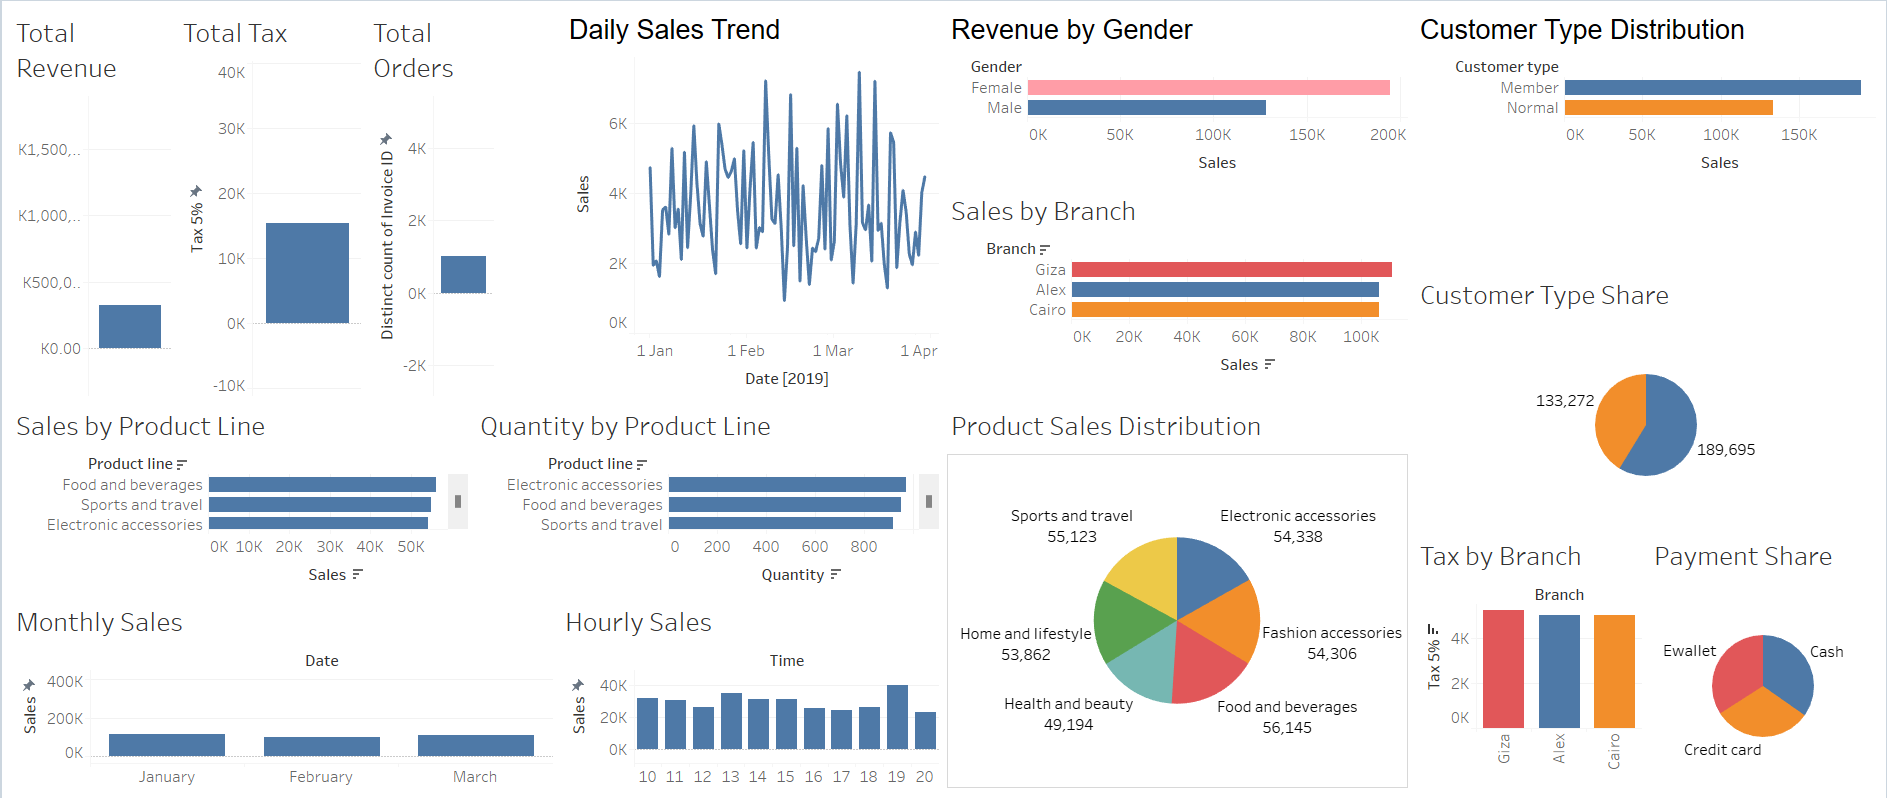

What the dashboard file says about the page in this screenshot:
{"tool":"tableau","page":{"name":"Supermarket Sales Dashboard","canvas":[1000,1000],"units":"permille","ordinal":5},"visuals":[{"type":"worksheet","title":"Total Revenue","mark":"Automatic","rows":["Sales"],"box":[4.2,10,88.2,490]},{"type":"worksheet","title":"Total Tax","mark":"Automatic","rows":["Tax 5%"],"box":[92.5,10,101,490]},{"type":"worksheet","title":"Total Orders","mark":"Automatic","rows":["Invoice_ID"],"box":[193.5,10,103.5,490]},{"type":"worksheet","title":"Daily Sales Trend","mark":"Automatic","rows":["Sales"],"cols":["date"],"box":[297,10,202.7,490]},{"type":"worksheet","title":"Sales by Gender","mark":"Automatic","rows":["Gender"],"cols":["Sales"],"box":[499.7,10,248.2,222.2]},{"type":"worksheet","title":"Sales by Customer Type","mark":"Automatic","rows":["Customer type"],"cols":["Sales"],"box":[747.8,10,247.9,326.7]},{"type":"worksheet","title":"Sales by Branch","mark":"Automatic","rows":["Branch"],"cols":["Sales"],"box":[499.7,232.2,248.2,268.4]},{"type":"worksheet","title":"Customer Type Share","mark":"Pie","box":[747.8,336.7,247.9,326.7]},{"type":"worksheet","title":"Sales by Product Line","mark":"Automatic","rows":["Product line"],"cols":["Sales"],"box":[4.2,500,245.7,245]},{"type":"worksheet","title":"Quantity by Product Line","mark":"Automatic","rows":["Product line"],"cols":["Quantity"],"box":[250,500,249.7,245]},{"type":"worksheet","title":"Product Sales Distribution","mark":"Pie","box":[499.7,500.6,248.2,489.4]},{"type":"worksheet","title":"Tax by Branch","mark":"Automatic","rows":["Tax 5%"],"cols":["Branch"],"box":[747.8,663.3,123.9,326.7]},{"type":"worksheet","title":"Payment Share","mark":"Pie","box":[871.8,663.3,124,326.7]},{"type":"worksheet","title":"Monthly Sales","mark":"Bar","rows":["Sales"],"cols":["date"],"box":[4.2,745,290.8,245]},{"type":"worksheet","title":"Hourly Sales","mark":"Bar","rows":["Sales"],"cols":["time"],"box":[295,745,204.7,245]}]}

Visuals, with their boxes on the dashboard's canvas, which has no fixed pixel size, in thousandths of its width and height (x1, y1, x2, y2). These are canvas units, not pixel positions in the 1887x798 screenshot, which may show the page scaled, cropped or inside an application window:
"Total Revenue" worksheet: <bbox>4, 10, 92, 500</bbox>
"Total Tax" worksheet: <bbox>92, 10, 194, 500</bbox>
"Total Orders" worksheet: <bbox>194, 10, 297, 500</bbox>
"Daily Sales Trend" worksheet: <bbox>297, 10, 500, 500</bbox>
"Sales by Gender" worksheet: <bbox>500, 10, 748, 232</bbox>
"Sales by Customer Type" worksheet: <bbox>748, 10, 996, 337</bbox>
"Sales by Branch" worksheet: <bbox>500, 232, 748, 501</bbox>
"Customer Type Share" worksheet (Pie marks): <bbox>748, 337, 996, 663</bbox>
"Sales by Product Line" worksheet: <bbox>4, 500, 250, 745</bbox>
"Quantity by Product Line" worksheet: <bbox>250, 500, 500, 745</bbox>
"Product Sales Distribution" worksheet (Pie marks): <bbox>500, 501, 748, 990</bbox>
"Tax by Branch" worksheet: <bbox>748, 663, 872, 990</bbox>
"Payment Share" worksheet (Pie marks): <bbox>872, 663, 996, 990</bbox>
"Monthly Sales" worksheet (Bar marks): <bbox>4, 745, 295, 990</bbox>
"Hourly Sales" worksheet (Bar marks): <bbox>295, 745, 500, 990</bbox>
